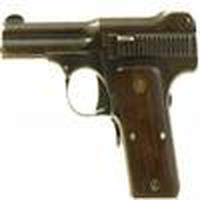gun: (2, 12, 197, 200)
